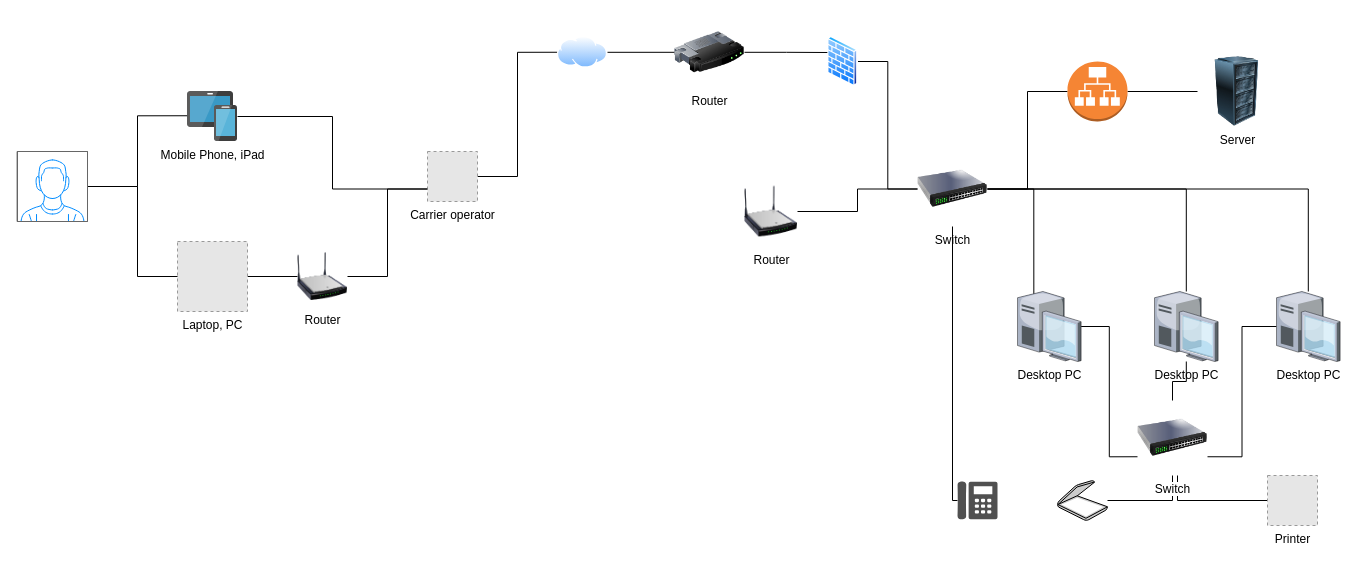
This 1358x564 diagram has some shape labels left out. Grey dashed boxes stand in for pictures. Each missing label, with the centre of its shape:
Firewall: point (842, 61)
Internet: point (582, 52)
Load Balancer: point (1097, 91)
Phone: point (977, 500)
Scanner: point (1082, 500)
User: point (52, 186)
